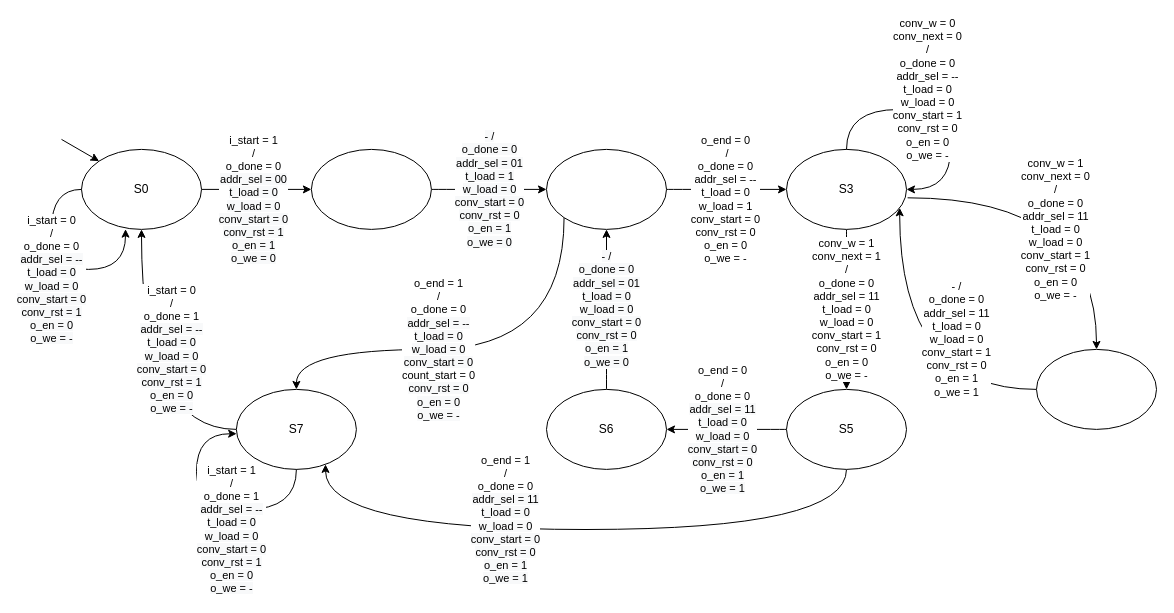
Some shapes in this 1174 by 613 pixel diagram are drawn without their labels. The centre of each missing label's shape, as x and y in pixels:
S1: (370,188)
S2: (606,188)
S4: (1096,388)
